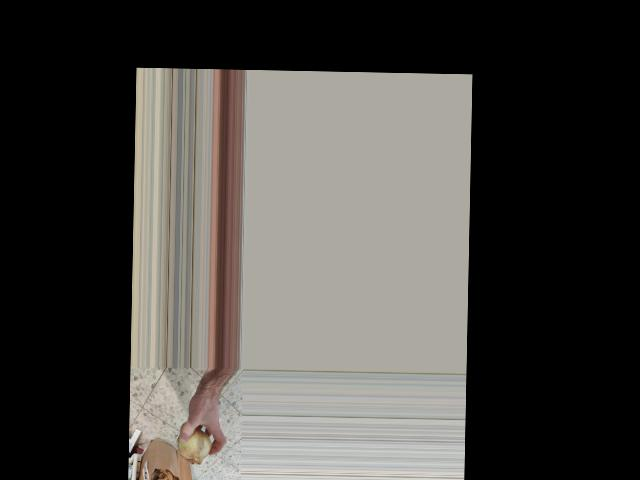onion: (173, 418, 215, 465)
